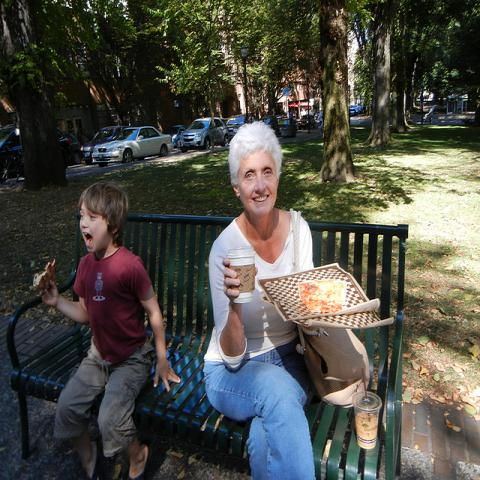car: (0, 125, 76, 178), (92, 123, 174, 168), (179, 116, 232, 153), (80, 125, 124, 165), (65, 132, 82, 164), (171, 124, 188, 148), (226, 114, 244, 132), (278, 118, 298, 134), (298, 115, 315, 130), (258, 117, 282, 127), (419, 99, 436, 113), (350, 105, 359, 115)
